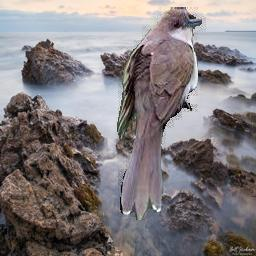Cuckoo: (118, 8, 207, 221)
